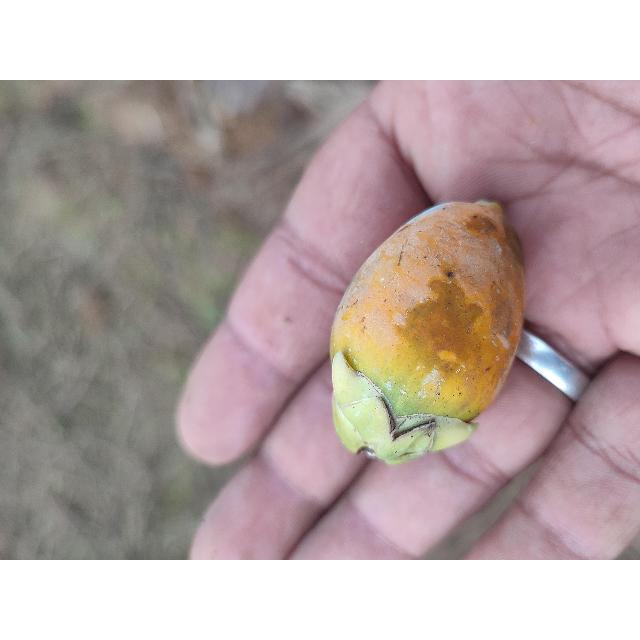good: (328, 201, 525, 467)
